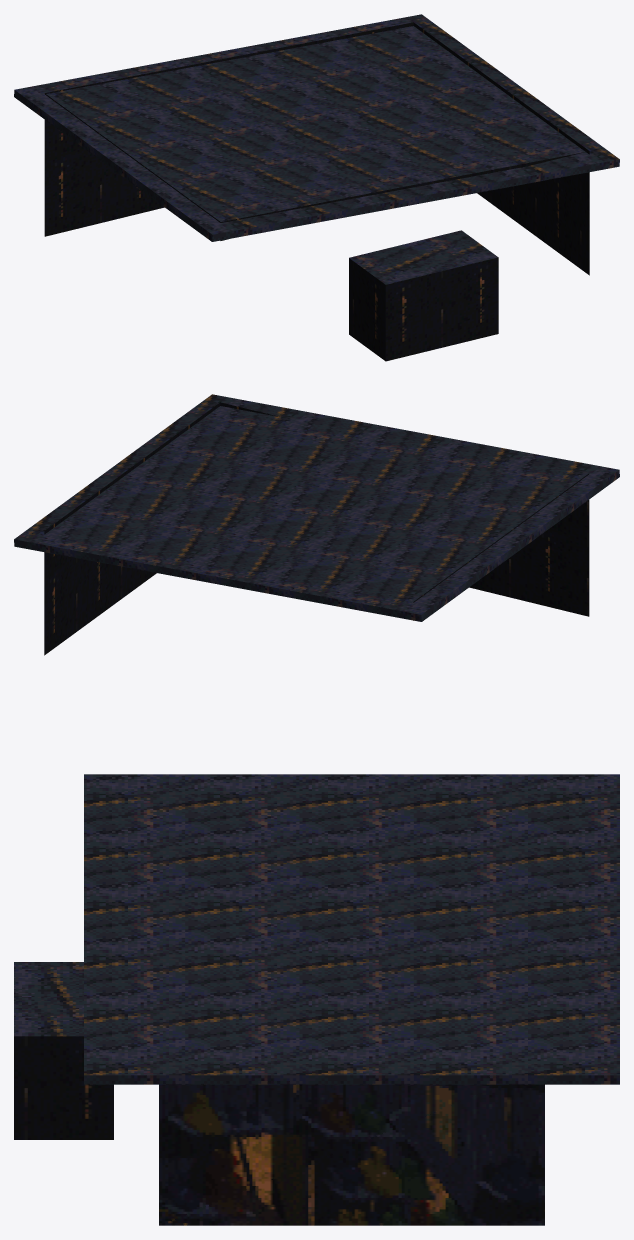
3 views of the same model, one above another, from view 1: azimuth 30°, elevation 25°; view 2: azimuth 150°, elevation 25°; view 3: azimuth 270°, elevation 25° (orthographic). The views are drawn at different scales.
Parts seen in each view (by area): view 1: b_74_16; view 2: b_74_16; view 3: b_74_16.
Part boxes in pixels (<box>): b_74_16: <box>14,14,619,361</box>; b_74_16: <box>14,394,619,655</box>; b_74_16: <box>14,774,619,1225</box>.
Size of the model in its own units: 8.91 by 3 by 8.48.
Materials: 3 (3 with a texture image).
